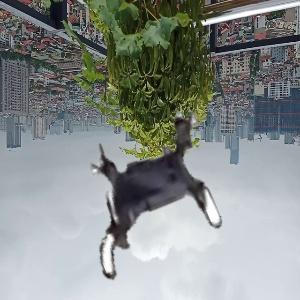drone: (69, 113, 234, 278)
